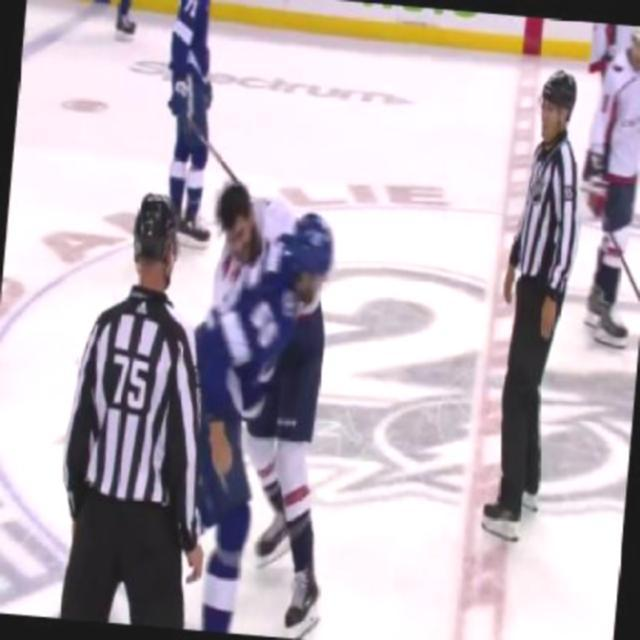fight: (136, 178, 350, 638)
non-fight: (477, 69, 592, 545), (566, 22, 639, 356), (148, 0, 238, 257)
